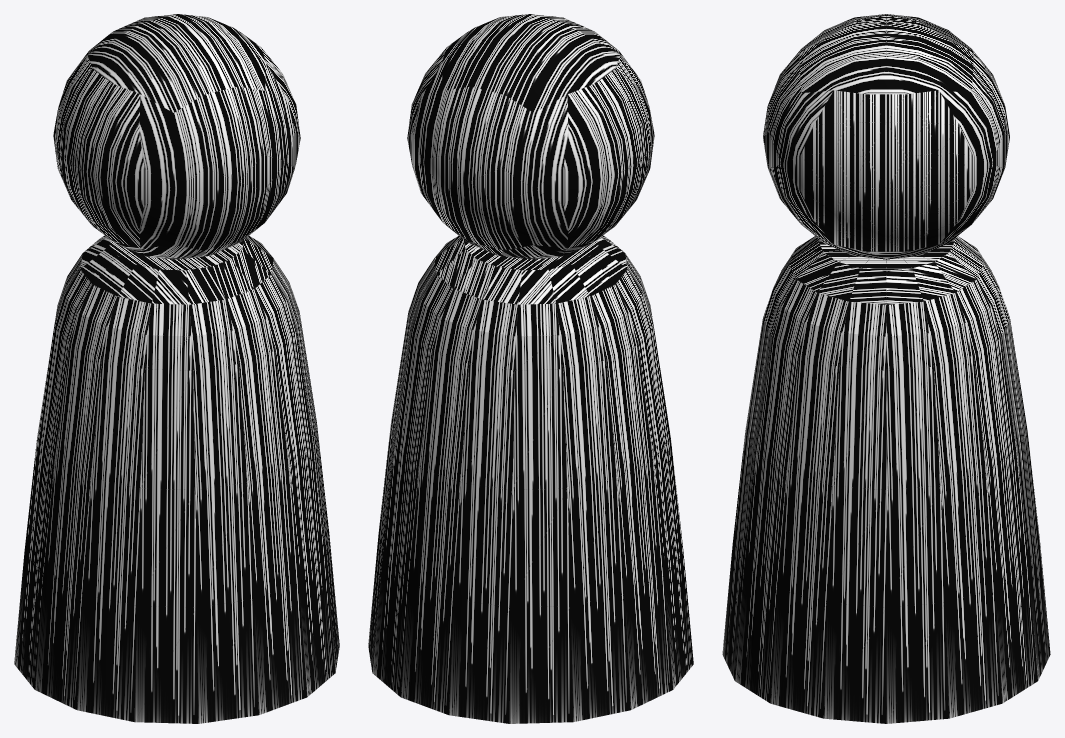
File: Person.fbx
3 views of the same model, side by side, from view 1: azimuth 30°, elevation 25°; view 2: azimuth 150°, elevation 25°; view 3: azimuth 270°, elevation 25° (orthographic).
Parts seen in each view (by area): view 1: Cylinder, Sphere; view 2: Cylinder, Sphere; view 3: Cylinder, Sphere.
Part boxes in pixels (left/top/right/bottom): Cylinder: left=14, top=235, right=339, bottom=723; Sphere: left=53, top=14, right=300, bottom=259; Cylinder: left=368, top=235, right=693, bottom=723; Sphere: left=407, top=14, right=654, bottom=259; Cylinder: left=722, top=236, right=1050, bottom=723; Sphere: left=763, top=14, right=1009, bottom=259.
Size of the model in its own units: 66.35 by 141 by 66.35.
2 materials, 2 textured.
